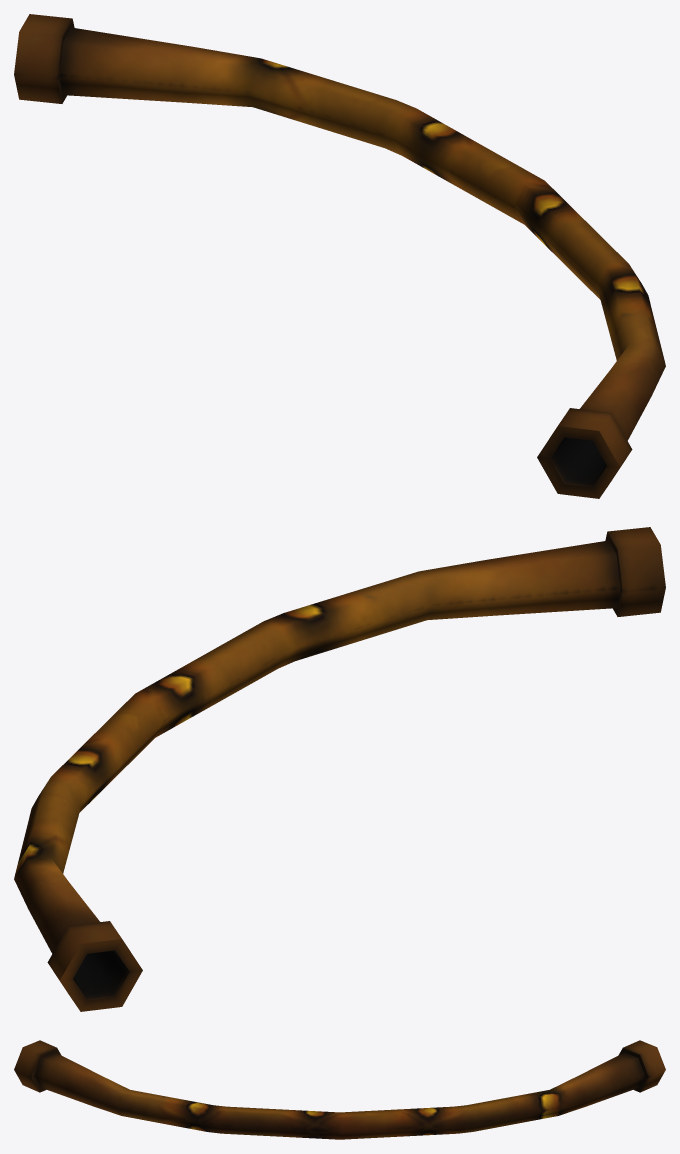
The model's file is MESH_AMB30_tuyau4.fbx.
The picture shows the model from 3 angles, top to bottom: view 1: azimuth 30°, elevation 25°; view 2: azimuth 150°, elevation 25°; view 3: azimuth 270°, elevation 25°; orthographic projection. The views are drawn at different scales.
Parts seen in each view (by area): view 1: tuyau4; view 2: tuyau4; view 3: tuyau4.
Boxes of the visible parts, box(x1,y1,x2,y2) form: tuyau4: box(14, 14, 665, 498); tuyau4: box(14, 527, 665, 1011); tuyau4: box(14, 1040, 665, 1139).
Size of the model in its own units: 10.27 by 2.38 by 37.25.
Materials: 1 (1 with a texture image).
